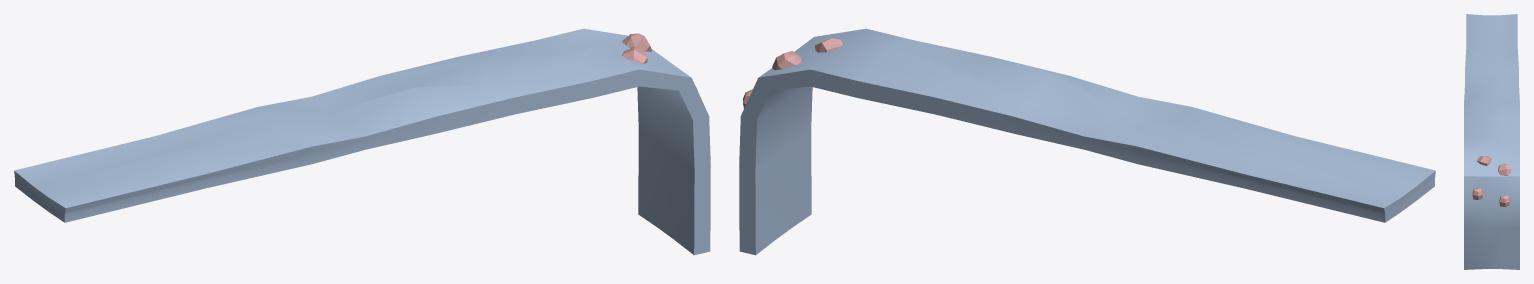
File: Water.fbx
The picture shows the model from 3 angles, left to right: view 1: azimuth 30°, elevation 25°; view 2: azimuth 150°, elevation 25°; view 3: azimuth 270°, elevation 25°; orthographic projection. The views are drawn at different scales.
Visible parts, largest first — view 1: polySurface17; view 2: polySurface17; view 3: polySurface17.
Part boxes in pixels (x1,y1,x2,y2): polySurface17: (14,28,710,255); polySurface17: (739,28,1435,255); polySurface17: (1464,14,1519,269).
Bounding box in the file's own units: 20.45 × 6.49 × 3.02.
